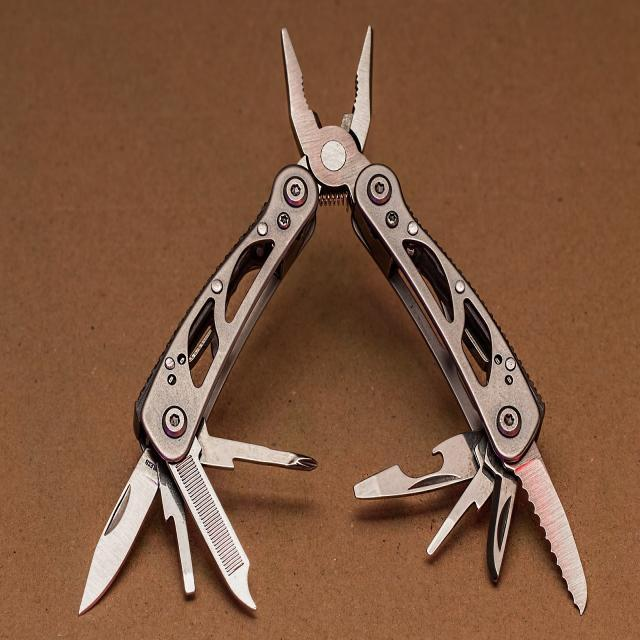Knife: (80, 28, 586, 612)
